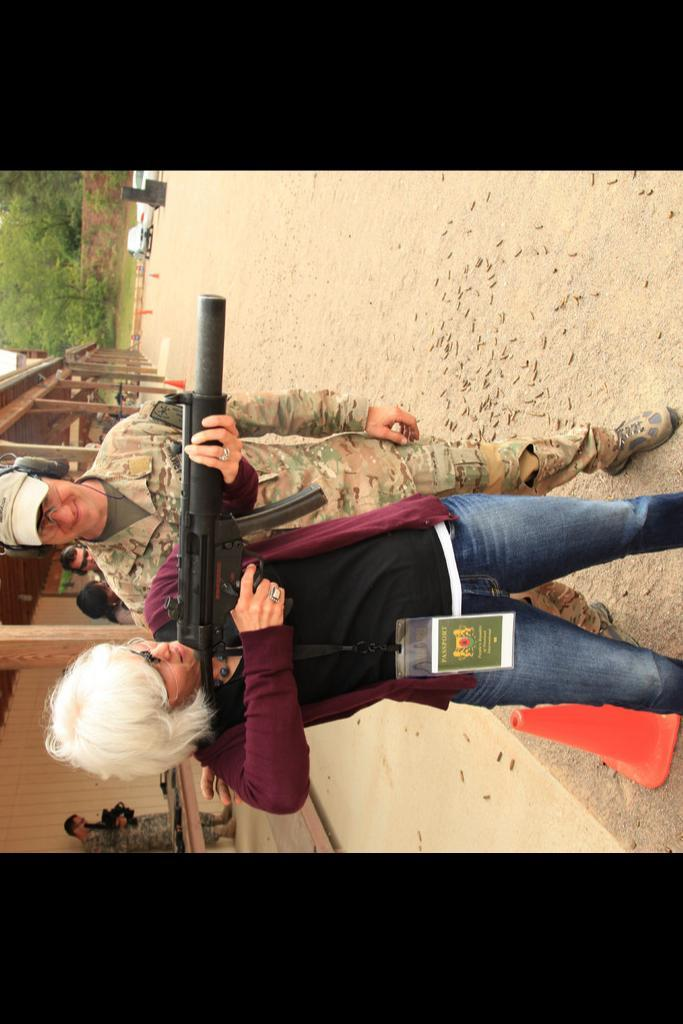gun: (150, 292, 310, 702)
